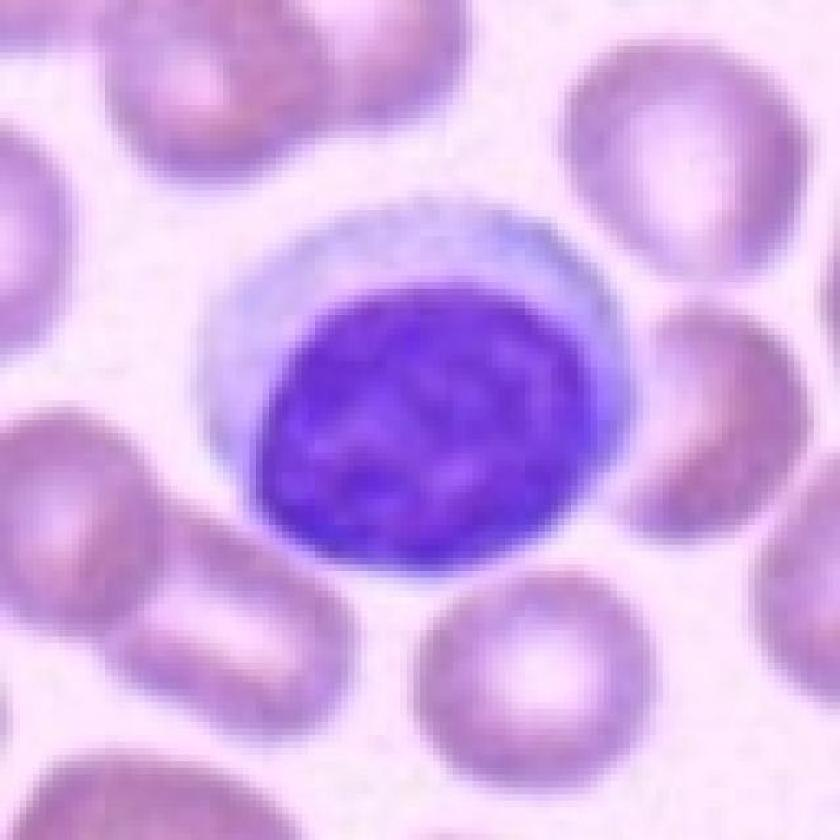lymphocyte: (190, 186, 645, 589)
